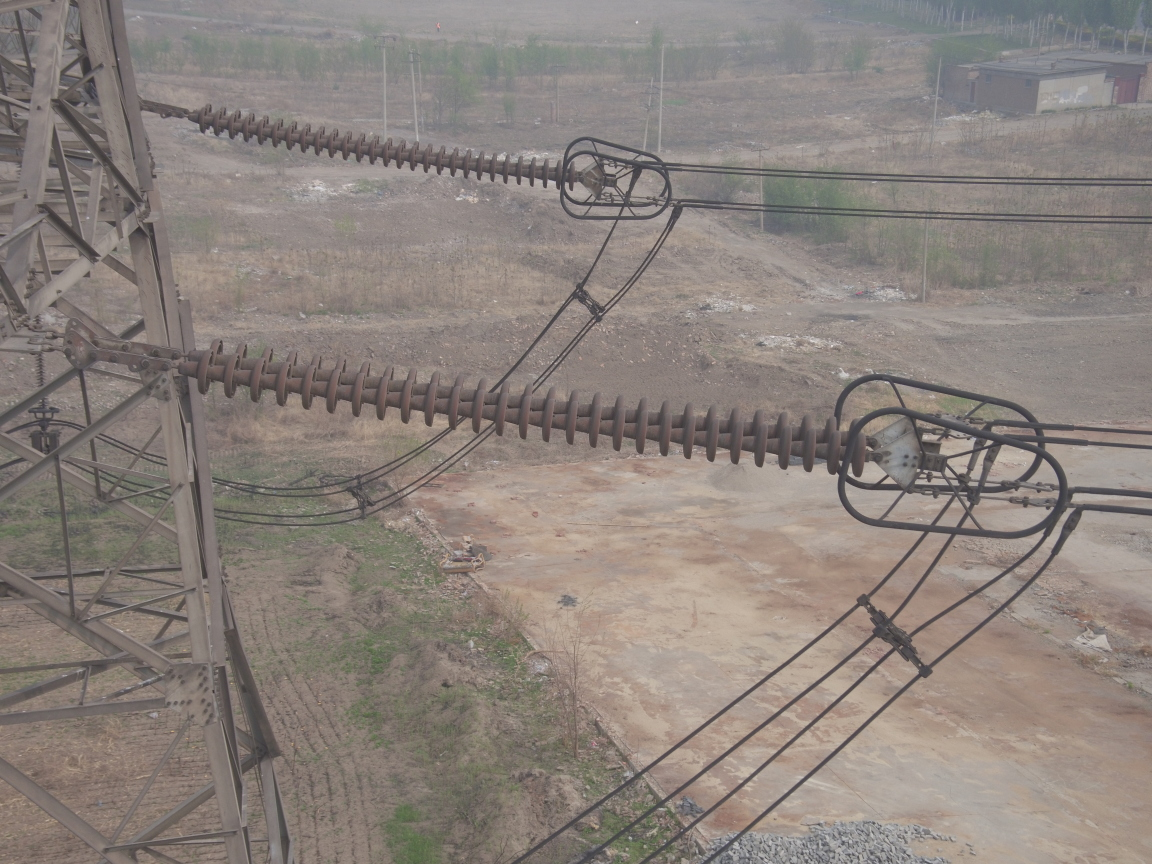insulator: (134, 337, 889, 484), (162, 100, 581, 193)
